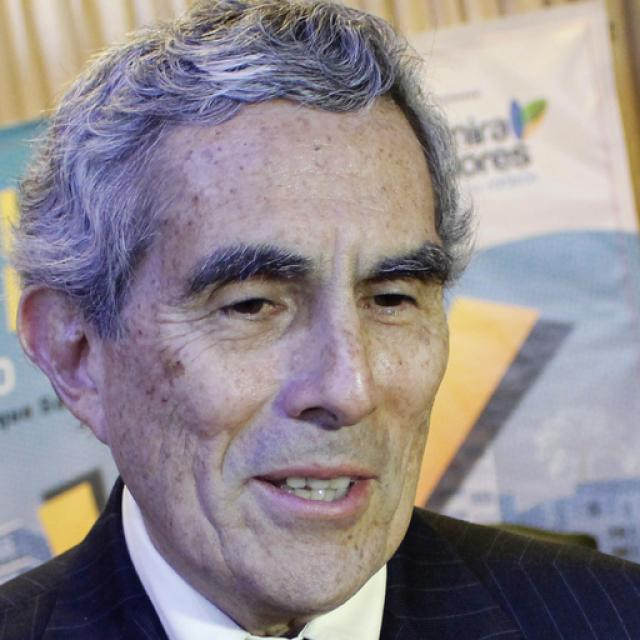disgust: (105, 83, 450, 612)
